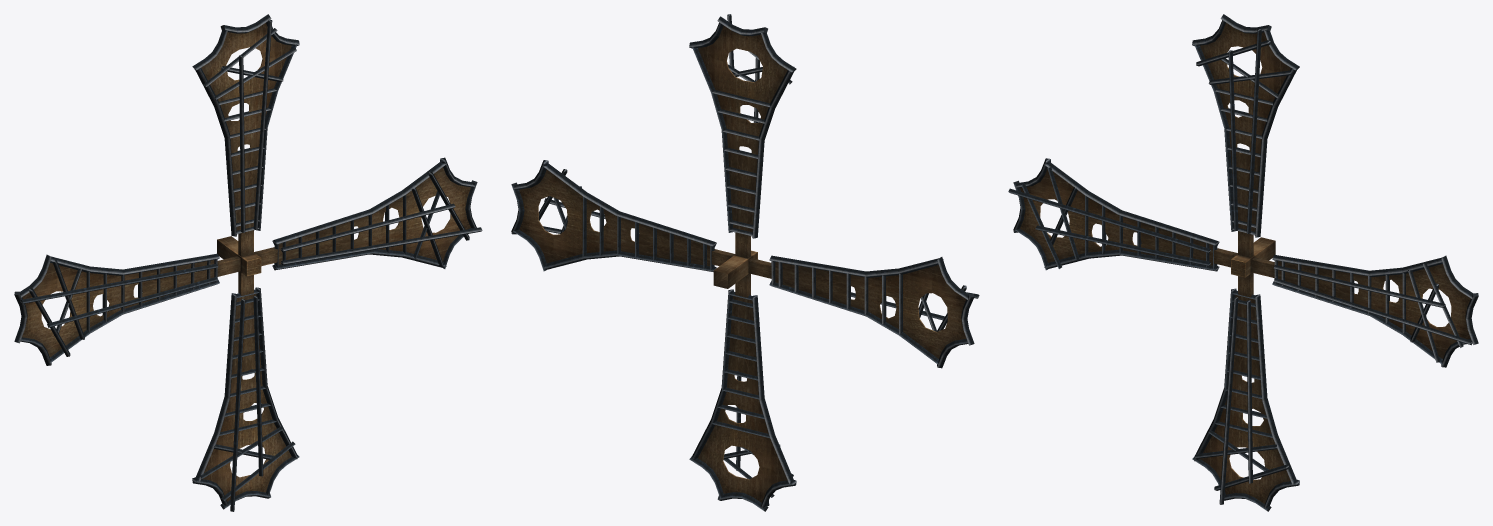
File: zshh_fengche_02.FBX
The picture shows the model from 3 angles, left to right: view 1: azimuth 30°, elevation 25°; view 2: azimuth 150°, elevation 25°; view 3: azimuth 330°, elevation 25°; orthographic projection.
Parts seen in each view (by area): view 1: zshh_fengche_02; view 2: zshh_fengche_02; view 3: zshh_fengche_02.
Boxes of the visible parts, x1,y1,x2,y2 form: zshh_fengche_02: (14,14,482,511); zshh_fengche_02: (511,14,979,511); zshh_fengche_02: (1008,14,1478,511).
Bounding box in the file's own units: 902 × 902 × 101.
